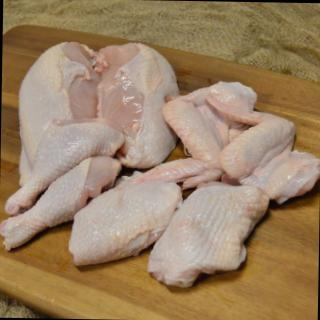Ayam: (4, 37, 111, 192), (116, 78, 261, 192), (146, 179, 272, 294), (201, 91, 320, 209), (3, 115, 128, 220), (1, 153, 124, 255), (94, 41, 186, 173), (68, 175, 186, 270)
